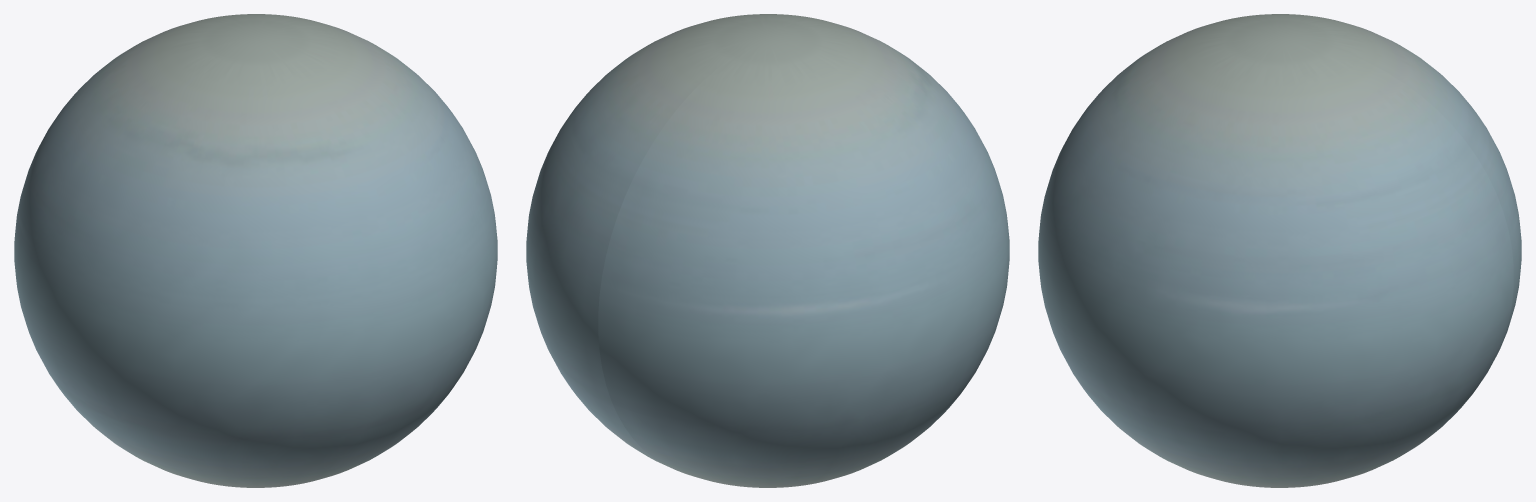
Rendered from uranus.glb.
3 renders of one model, left to right at view 1: azimuth 30°, elevation 25°; view 2: azimuth 150°, elevation 25°; view 3: azimuth 270°, elevation 25°, orthographic.
Parts seen in each view (by area): view 1: Uranus; view 2: Uranus; view 3: Uranus.
Boxes of the visible parts, left/top/right/bottom form: Uranus: left=14, top=14, right=497, bottom=487; Uranus: left=526, top=14, right=1009, bottom=487; Uranus: left=1038, top=14, right=1521, bottom=487.
Size of the model in its own units: 1000 by 977 by 1000.
Materials: 1 (1 with a texture image).
